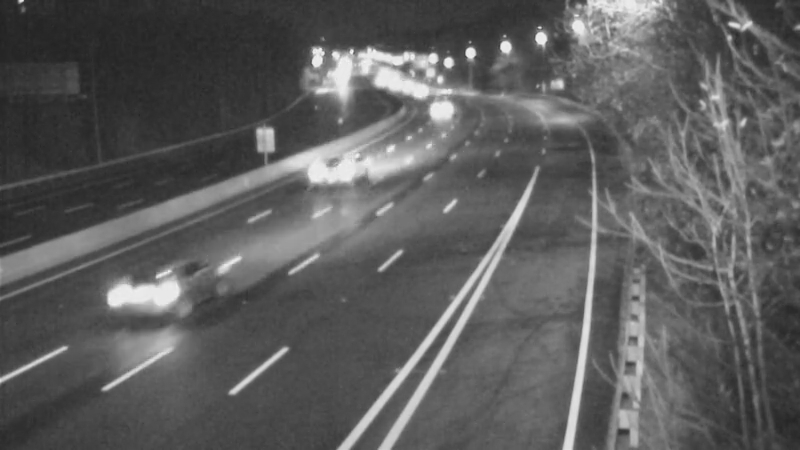vehicle: (295, 128, 375, 208), (99, 260, 179, 340), (395, 68, 445, 118), (413, 82, 463, 132)
